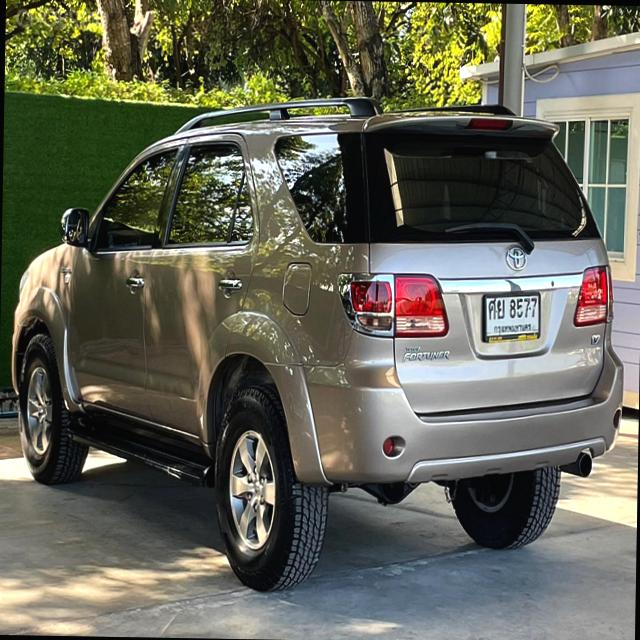license_plate: (480, 286, 545, 344)
